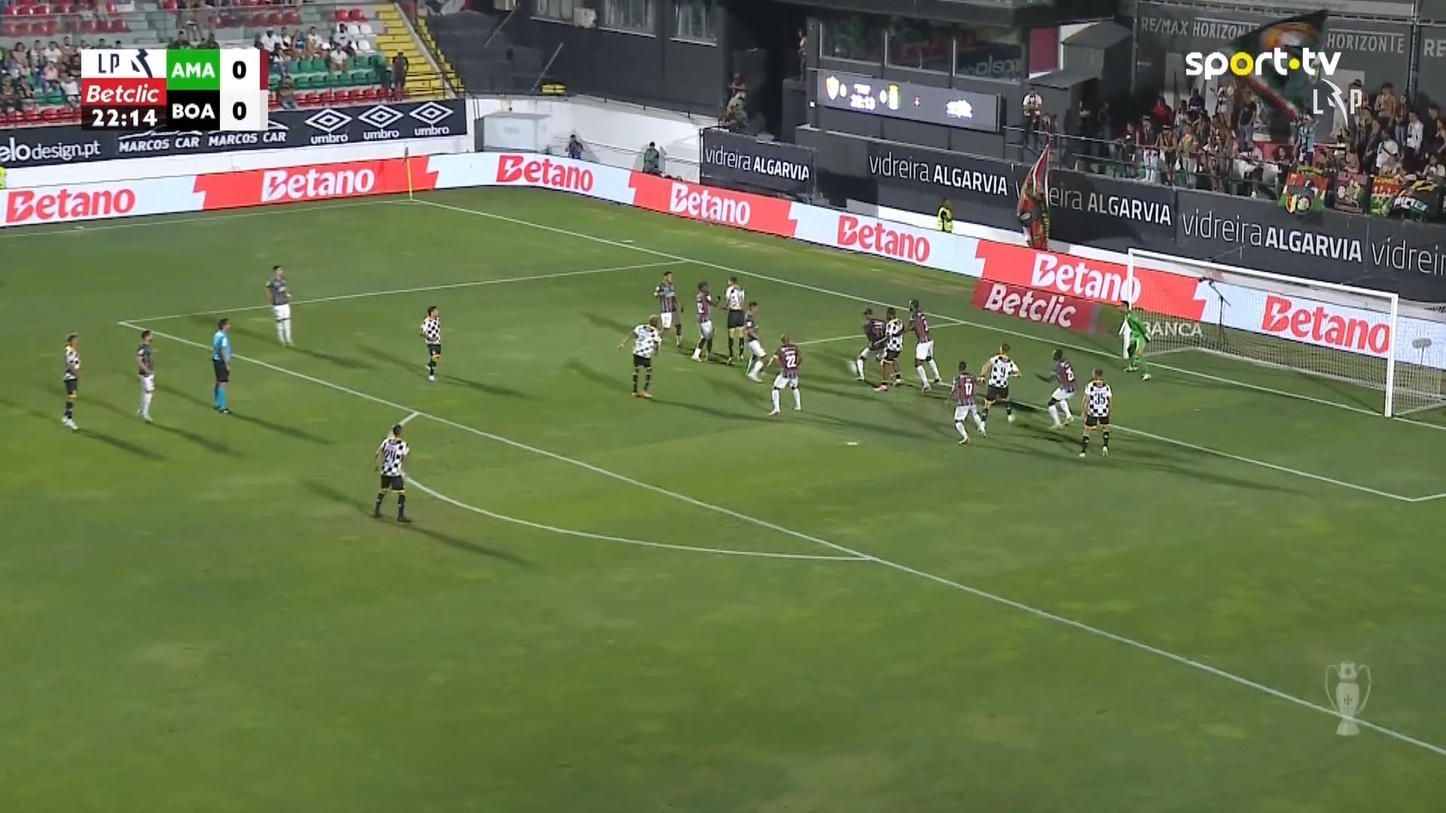goalkeeper: (1116, 299, 1153, 380)
player: (371, 423, 411, 522), (975, 342, 1021, 427), (616, 314, 662, 398), (1034, 348, 1076, 429), (947, 360, 987, 444), (907, 297, 941, 392), (764, 333, 802, 416), (1077, 367, 1112, 457), (852, 306, 888, 382), (652, 270, 684, 349), (874, 309, 906, 388), (719, 275, 747, 364), (265, 264, 295, 347), (691, 280, 718, 361), (135, 328, 157, 423), (60, 332, 81, 430), (742, 300, 766, 382), (419, 305, 443, 381)
referee: (211, 317, 233, 413)
